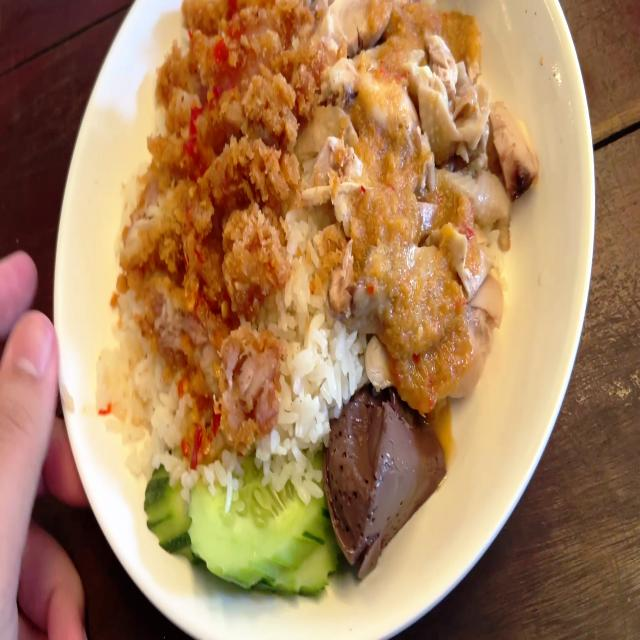boiled_chicken: (318, 0, 521, 406)
boiled_chicken_blood_jelly: (324, 381, 440, 577)
chicken_rice: (106, 2, 539, 596)
cucumber: (144, 433, 334, 595)
fried_chicken: (116, 0, 314, 449)
